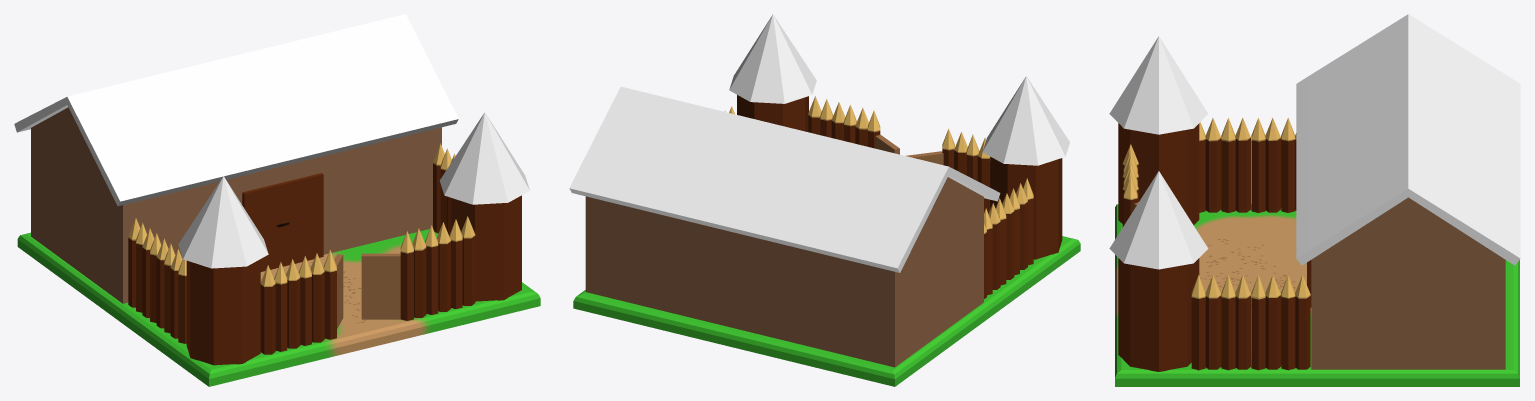
The model's file is barracksBuilding.fbx.
3 renders of one model, left to right at view 1: azimuth 30°, elevation 25°; view 2: azimuth 150°, elevation 25°; view 3: azimuth 270°, elevation 25°, orthographic. The views are drawn at different scales.
Parts seen in each view (by area): view 1: Barracks; view 2: Barracks; view 3: Barracks.
Part boxes in pixels (x1,y1,x2,y2): Barracks: (14, 14, 540, 386); Barracks: (569, 14, 1080, 386); Barracks: (1109, 14, 1520, 386).
Size of the model in its own units: 10.32 by 5.46 by 10.15.
1 material, 1 textured.
